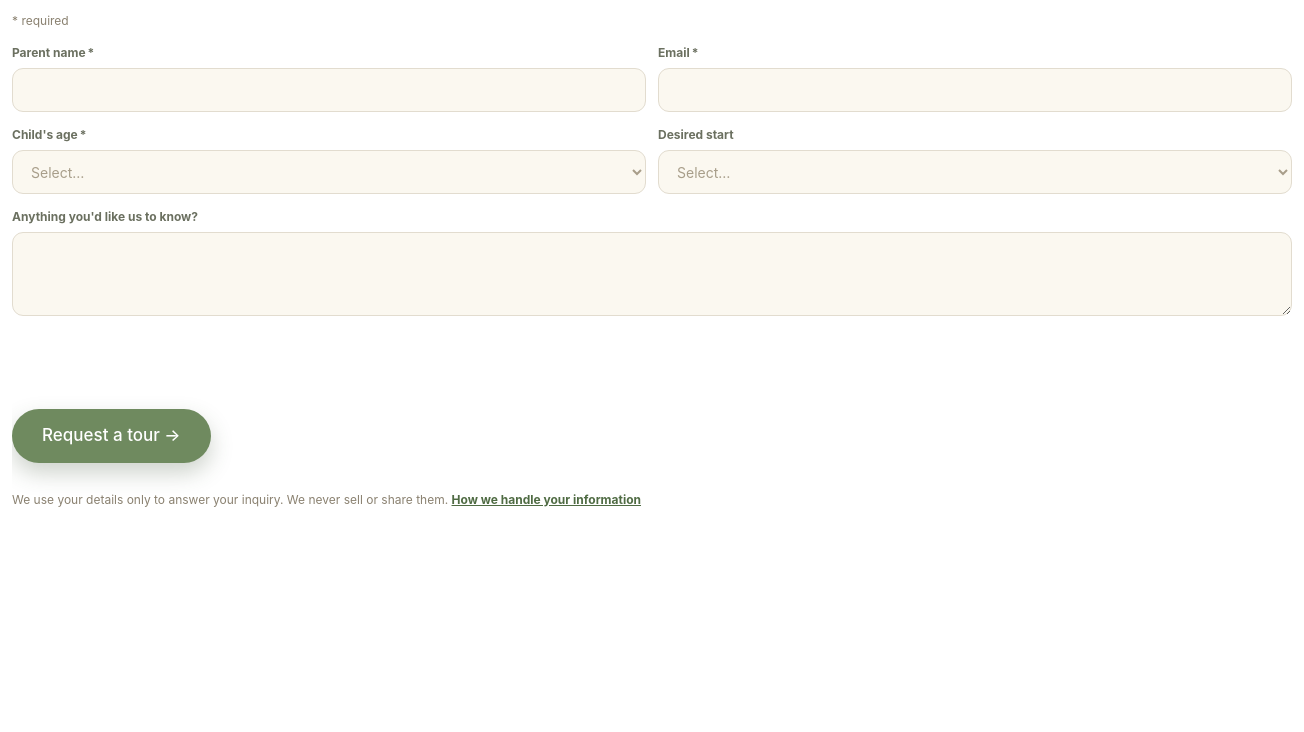
Test: validation (07 D-07.4) › shows a field's error on blur, once touched
In the field labelled "Email*": (975, 90) [658,68,1292,112], type "not-an-address"
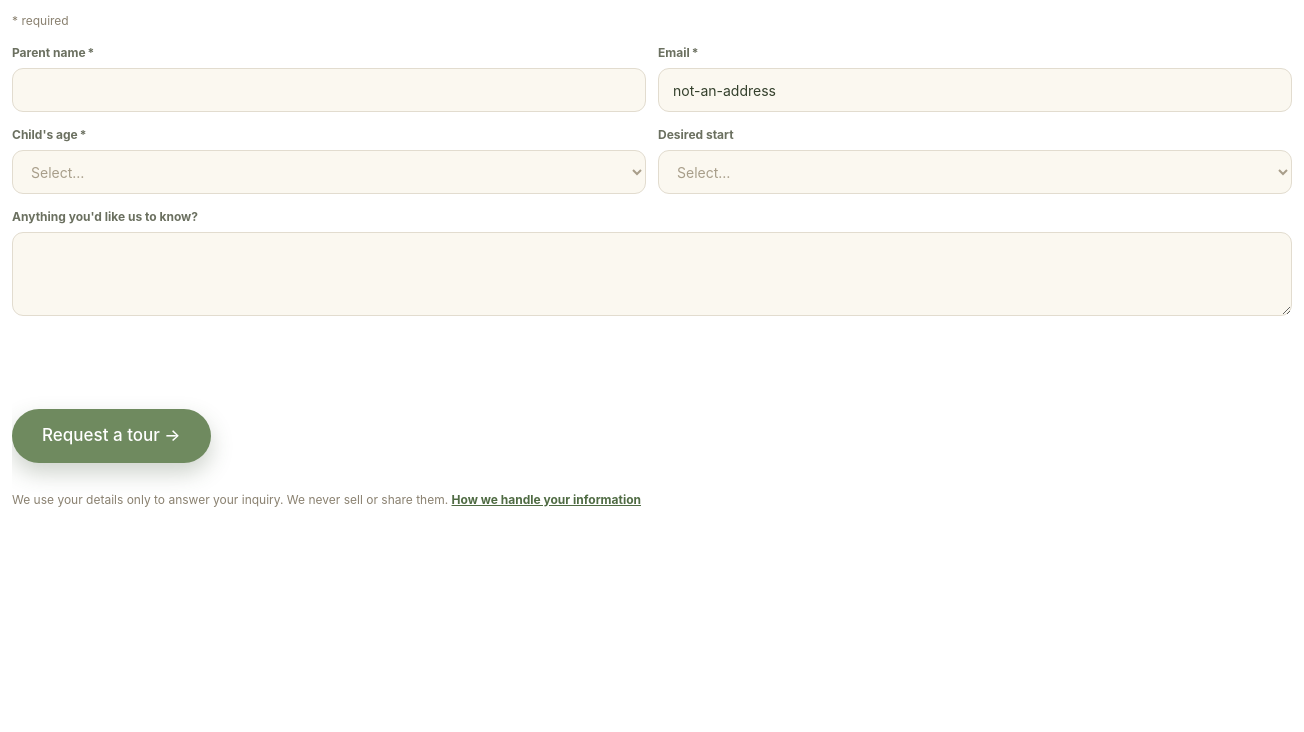
Expected: the text "That email address doesn't look right — please check it." is not shown
Leave the field labelled "Email*", box [658,68,1292,112]
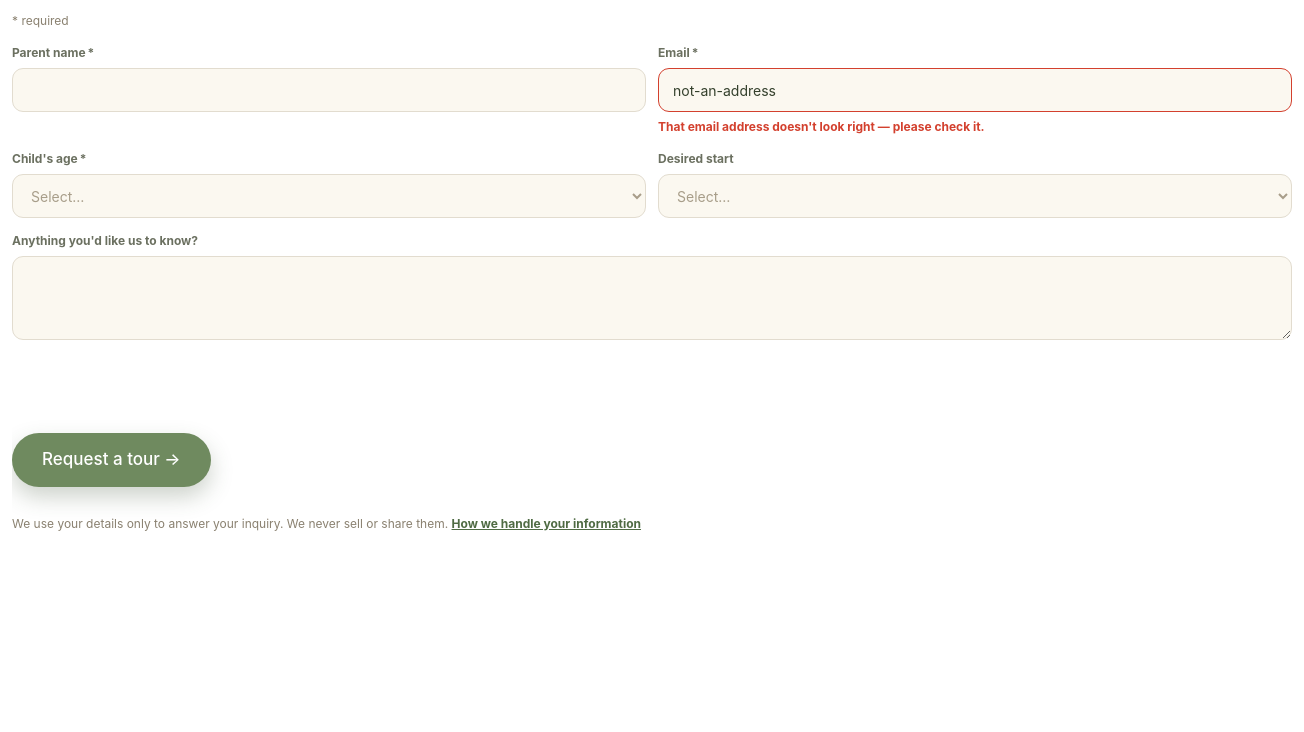
Result: the text "That email address doesn't look right — please check it." is shown at [658,119,985,134]
